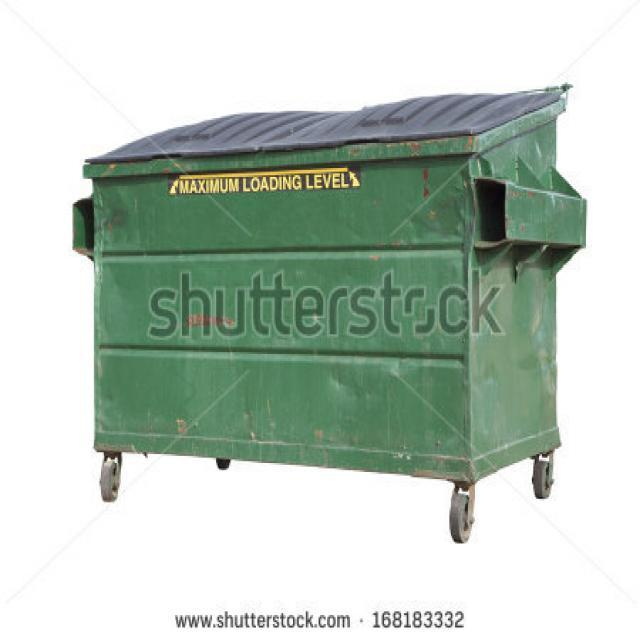bin: (16, 66, 603, 550)
